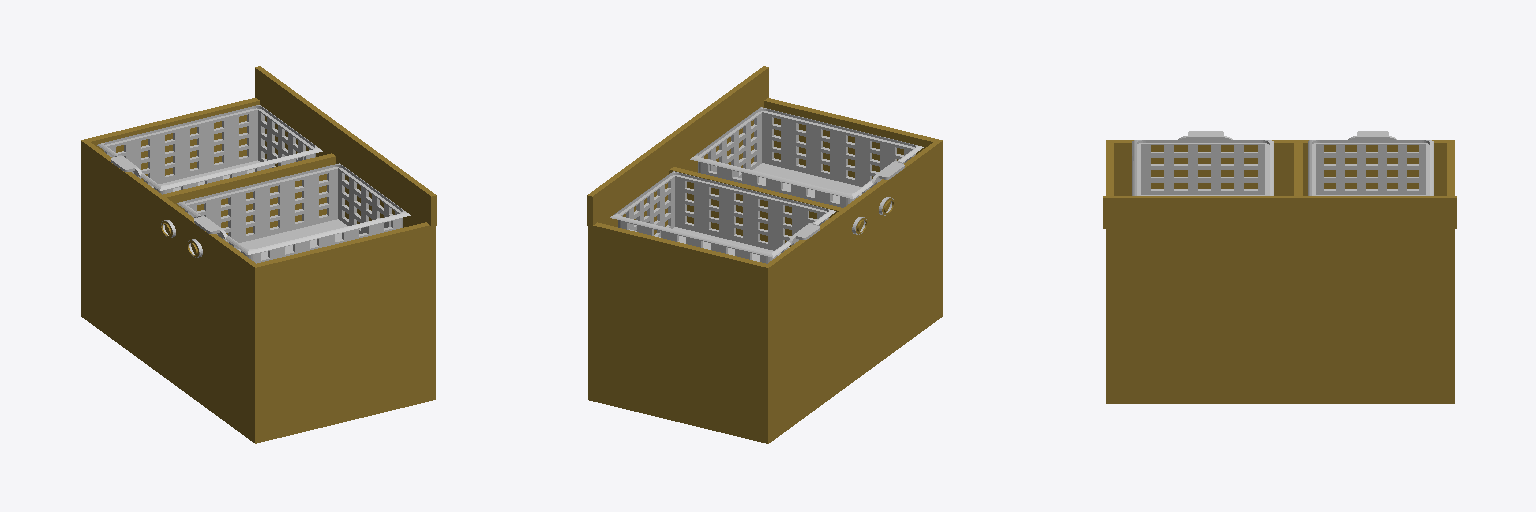
3 renders of one model, left to right at view 1: azimuth 30°, elevation 25°; view 2: azimuth 150°, elevation 25°; view 3: azimuth 270°, elevation 25°, orthographic.
Parts seen in each view (by area): view 1: Oven_controls.001_Cabinet1_Door.003; view 2: Oven_controls.001_Cabinet1_Door.003; view 3: Oven_controls.001_Cabinet1_Door.003.
Part boxes in pixels (bbox=[...]): Oven_controls.001_Cabinet1_Door.003: bbox=[81, 66, 436, 443]; Oven_controls.001_Cabinet1_Door.003: bbox=[587, 66, 942, 443]; Oven_controls.001_Cabinet1_Door.003: bbox=[1103, 131, 1456, 403].
Bounding box in the file's own units: 2.3 × 2.43 × 3.78.
4 materials, 1 textured.